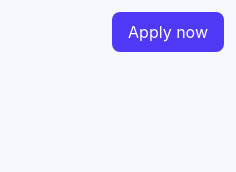
Scenario: ApplyButton › shows the server message for any other failure
Click the button "Apply now" at (168, 32), box [112,12,224,52]
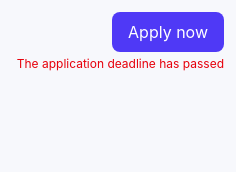
Check: the message reads "The application deadline has passed", box [17,56,224,71]
